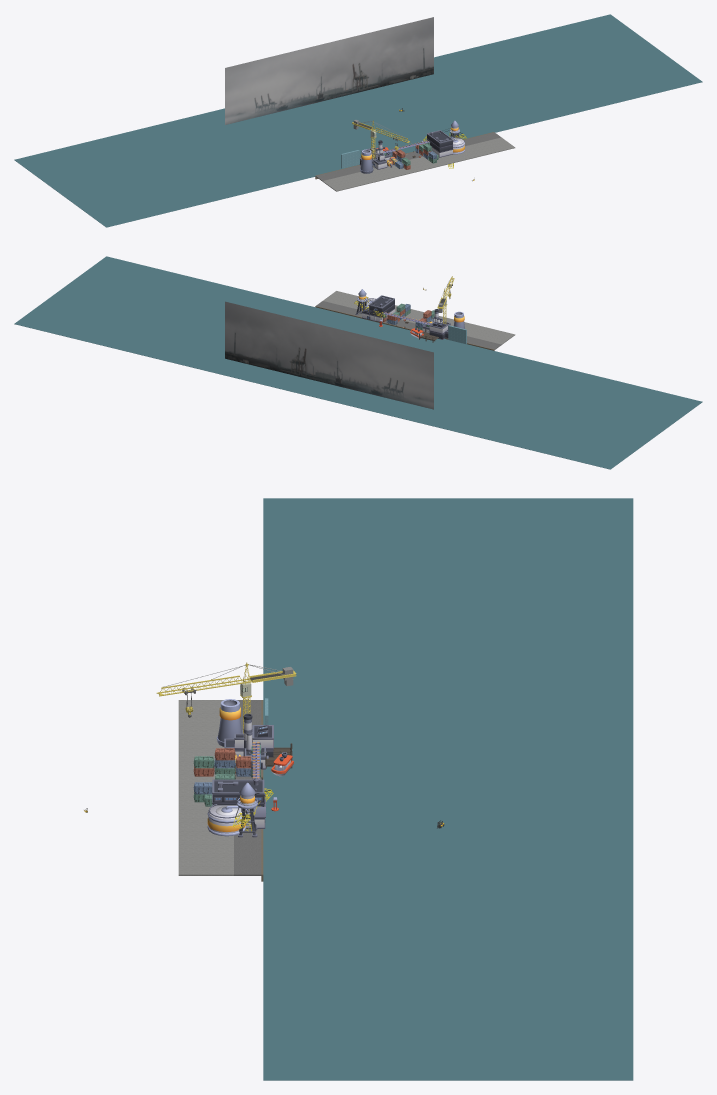
The model's file is doca.glb.
The picture shows the model from 3 angles, top to bottom: view 1: azimuth 30°, elevation 25°; view 2: azimuth 150°, elevation 25°; view 3: azimuth 270°, elevation 25°; orthographic projection. The views are drawn at different scales.
Visible parts, largest first — view 1: agua_0, porto_bruma_0, cais_concreto_0, kenney_city-kit-industrial_0, patio_asfalto_0, Yellow_0; view 2: agua_0, porto_bruma_0, kenney_city-kit-industrial_0, cais_concreto_0, patio_asfalto_0; view 3: agua_0, cais_concreto_0, kenney_city-kit-industrial_0, Yellow_0, patio_asfalto_0.
Boxes of the visible parts, x1,y1,x2,y2 form: agua_0: [14, 14, 702, 227]; porto_bruma_0: [225, 17, 433, 124]; cais_concreto_0: [322, 137, 515, 191]; kenney_city-kit-industrial_0: [359, 120, 464, 173]; patio_asfalto_0: [315, 132, 501, 181]; Yellow_0: [352, 120, 410, 159]; agua_0: [14, 256, 702, 469]; porto_bruma_0: [225, 301, 433, 409]; kenney_city-kit-industrial_0: [355, 289, 464, 339]; cais_concreto_0: [323, 291, 515, 344]; patio_asfalto_0: [316, 301, 501, 349]; agua_0: [263, 498, 633, 1080]; cais_concreto_0: [178, 700, 233, 875]; kenney_city-kit-industrial_0: [207, 699, 273, 837]; Yellow_0: [156, 662, 296, 733]; patio_asfalto_0: [234, 700, 261, 875].
Size of the model in its own units: 400 by 50.04 by 160.
Materials: 40 (15 with a texture image).
